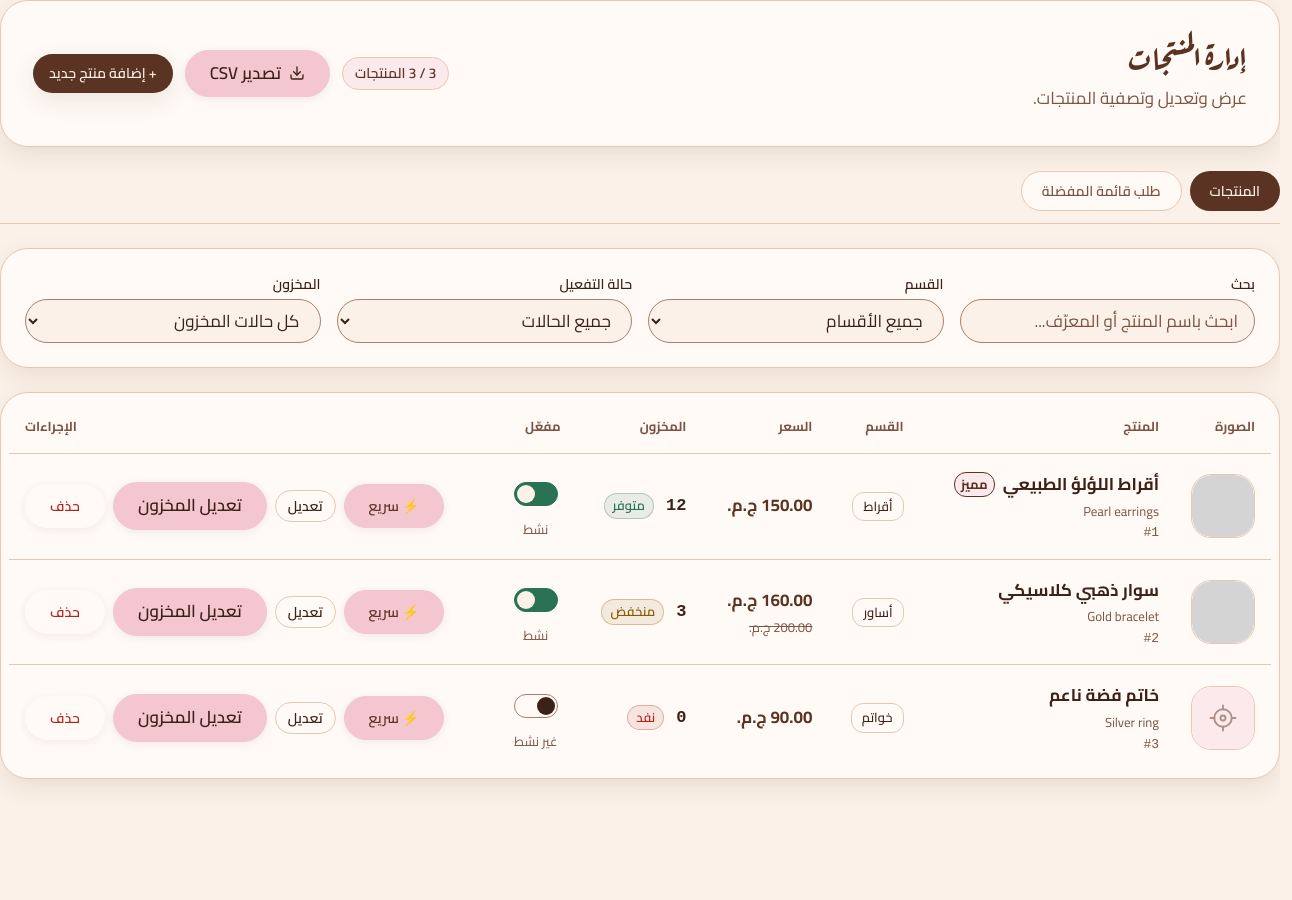
Test: Admin Products Management (T-5.02) › Filtering and search › filters products by search input (Arabic name, English name, and #ID)
This screenshot has width=1292, height=900.
Expected: the text "أقراط اللؤلؤ الطبيعي" is shown, [1003,470,1159,500]
// Search by Arabic query
In the search field: (1107, 321) [960,299,1255,343], type "سوار"
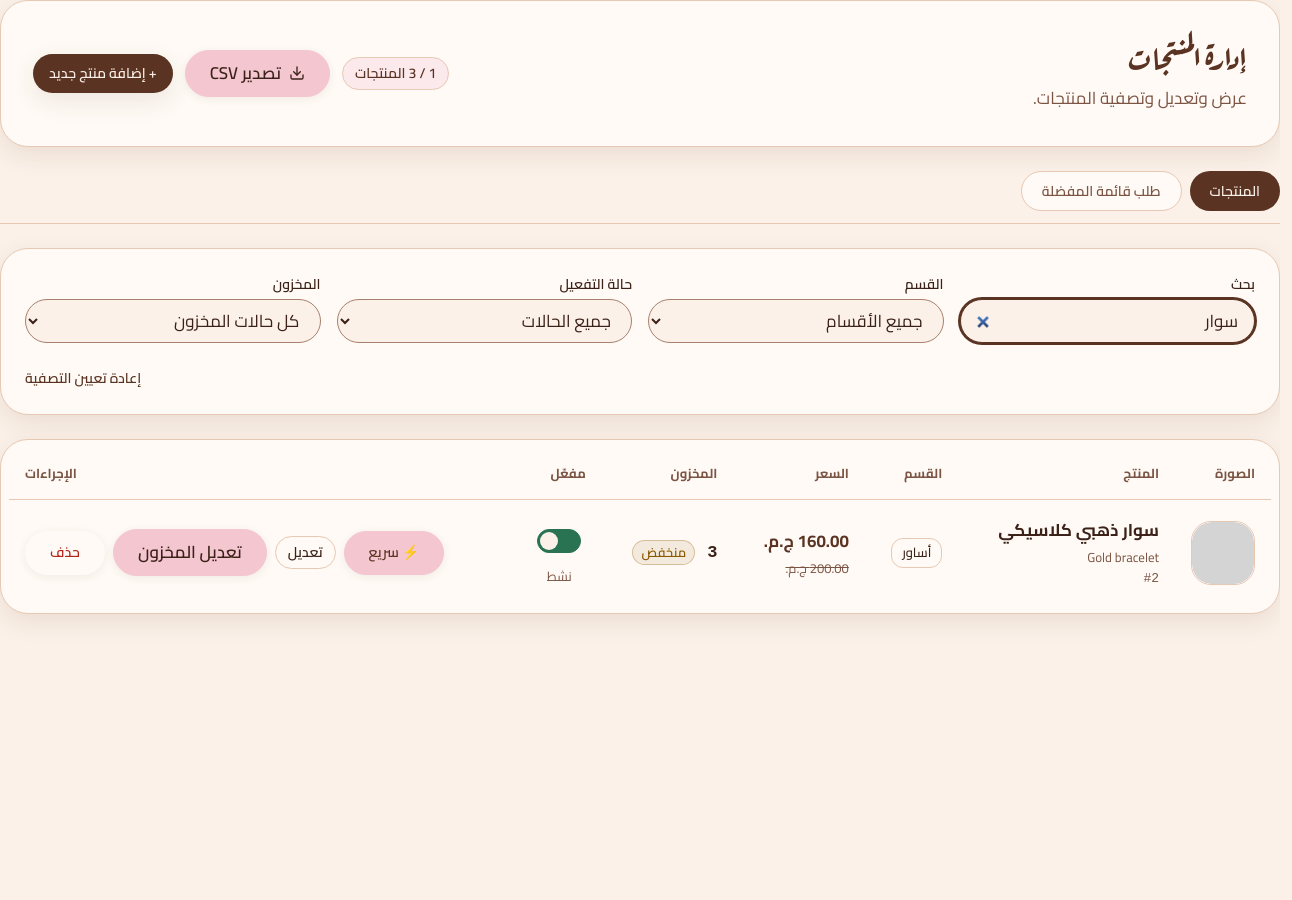
Expected: the text "سوار ذهبي كلاسيكي" is shown, [998,516,1159,546]
Result: the text "أقراط اللؤلؤ الطبيعي" is gone
// Clear and search by English query
Replace the text in the search field with "silver": (1107, 321) [960,299,1255,343]
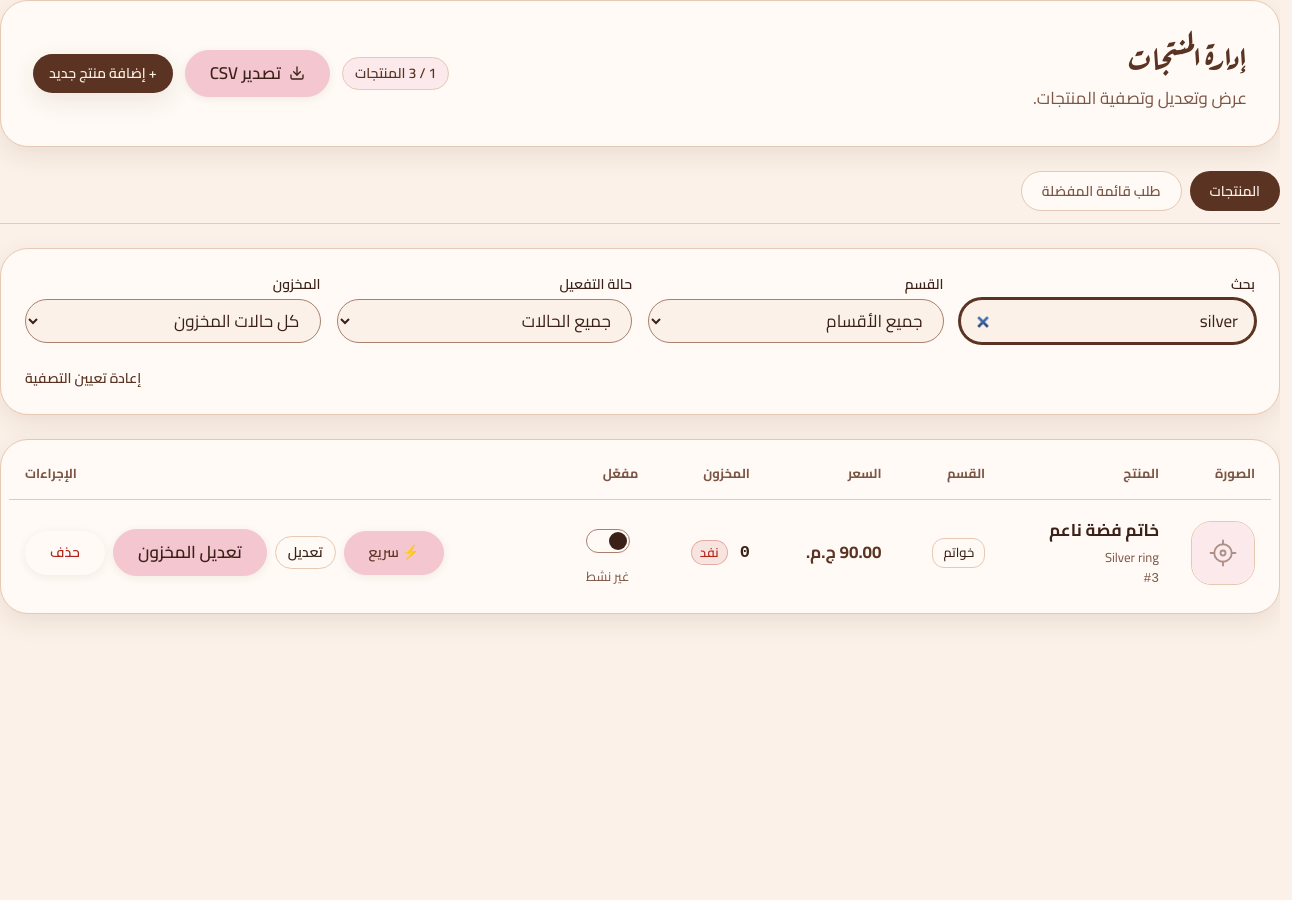
Expected: the text "أقراط اللؤلؤ الطبيعي" is not shown
Result: the text "خاتم فضة ناعم" is shown at [1049,516,1159,546]
// Search by ID
Replace the text in the search field with "#1": (1107, 321) [960,299,1255,343]
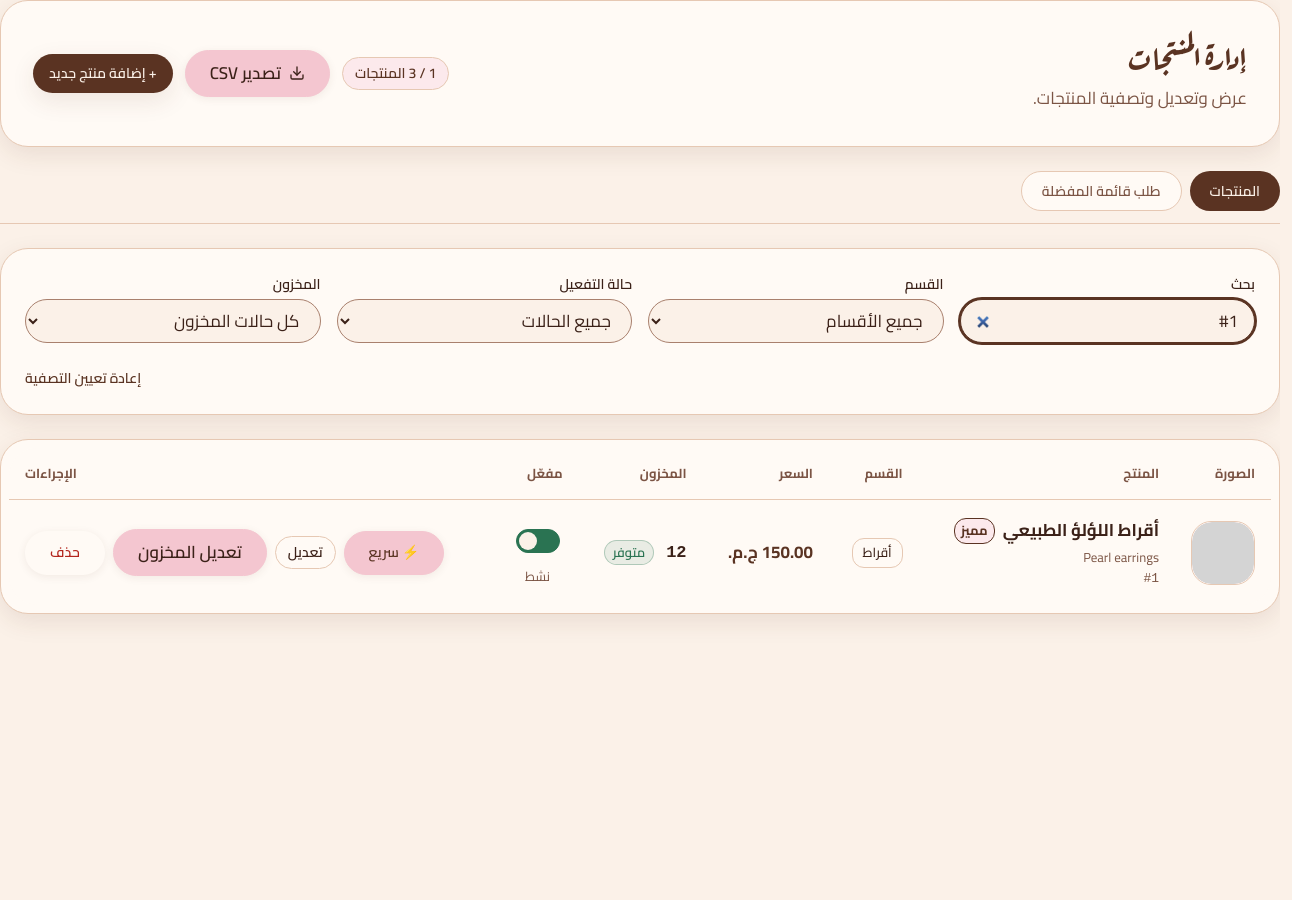
Result: the text "أقراط اللؤلؤ الطبيعي" is shown at [1003,516,1159,546]
Result: the text "سوار ذهبي كلاسيكي" is gone
